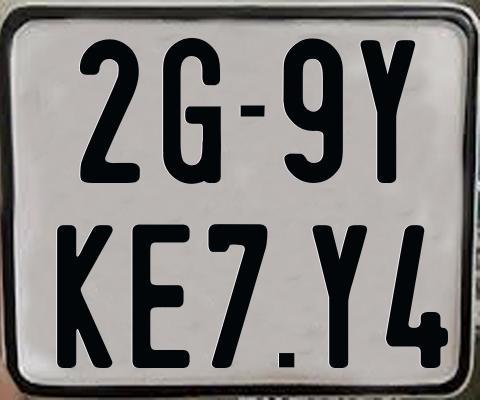2: (79, 38, 142, 187)
4: (384, 223, 452, 371)
7: (208, 223, 269, 369)
9: (280, 37, 342, 188)
E: (131, 222, 189, 366)
G: (160, 36, 221, 183)
K: (56, 223, 117, 367)
Y: (309, 223, 370, 372), (357, 39, 416, 183)
